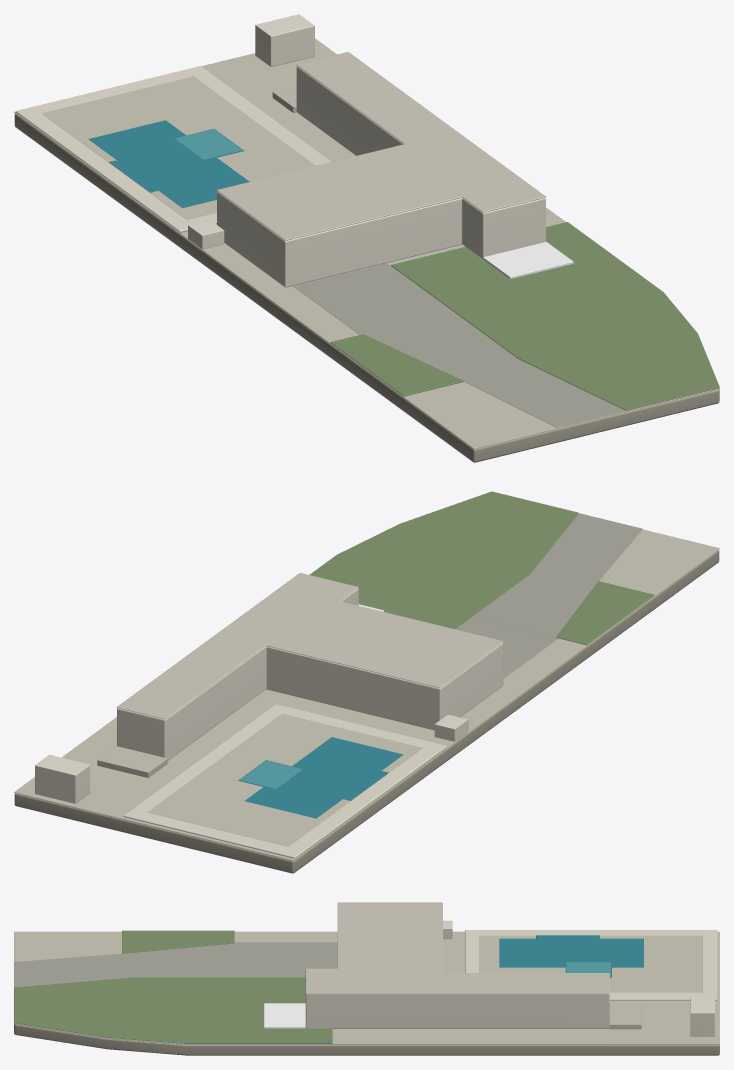
Rendered from outside.glb.
3 renders of one model, top to bottom at view 1: azimuth 30°, elevation 25°; view 2: azimuth 150°, elevation 25°; view 3: azimuth 270°, elevation 25°, orthographic. The views are drawn at different scales.
Parts seen in each view (by area): view 1: Lawn 0, House flat schematic cap, House footprint massing, Paths and paving, Pool surround, Driveway, Site base, Pool water, Pool terrace, Carport footprint, Lawn 1, Shed footprint (+3 smaller); view 2: House flat schematic cap, Lawn 0, Paths and paving, House footprint massing, Pool surround, Site base, Driveway, Pool terrace, Pool water, Lawn 1, Carport footprint, Shed footprint (+3 smaller); view 3: Lawn 0, House flat schematic cap, Paths and paving, House footprint massing, Site base, Driveway, Pool surround, Pool water, Pool terrace, Carport footprint, Lawn 1, Rear deck (+3 smaller).
Part boxes in pixels (x1=…): Lawn 0: x1=391, y1=222, x2=719, y2=410; House flat schematic cap: x1=217, y1=52, x2=545, y2=240; House footprint massing: x1=217, y1=66, x2=545, y2=287; Paths and paving: x1=14, y1=38, x2=719, y2=448; Pool surround: x1=42, y1=76, x2=315, y2=219; Driveway: x1=364, y1=312, x2=625, y2=427; Site base: x1=14, y1=113, x2=719, y2=462; Pool water: x1=88, y1=120, x2=249, y2=207; Pool terrace: x1=16, y1=66, x2=331, y2=232; Carport footprint: x1=293, y1=263, x2=453, y2=334; Lawn 1: x1=330, y1=334, x2=463, y2=396; Shed footprint: x1=255, y1=14, x2=314, y2=67; House flat schematic cap: x1=116, y1=573, x2=503, y2=719; Lawn 0: x1=309, y1=491, x2=578, y2=628; Paths and paving: x1=14, y1=529, x2=719, y2=860; House footprint massing: x1=117, y1=589, x2=503, y2=760; Pool surround: x1=147, y1=713, x2=422, y2=846; Site base: x1=14, y1=550, x2=719, y2=873; Driveway: x1=472, y1=513, x2=642, y2=637; Pool terrace: x1=123, y1=704, x2=447, y2=858; Pool water: x1=238, y1=737, x2=403, y2=818; Lawn 1: x1=556, y1=581, x2=654, y2=645; Carport footprint: x1=455, y1=617, x2=558, y2=678; Shed footprint: x1=35, y1=755, x2=90, y2=803; Lawn 0: x1=14, y1=977, x2=332, y2=1043; House flat schematic cap: x1=305, y1=902, x2=609, y2=993; Paths and paving: x1=14, y1=931, x2=719, y2=1044; House footprint massing: x1=305, y1=993, x2=609, y2=1028; Site base: x1=14, y1=1024, x2=719, y2=1055; Driveway: x1=14, y1=943, x2=234, y2=987; Pool surround: x1=479, y1=935, x2=702, y2=992; Pool water: x1=499, y1=935, x2=643, y2=977; Pool terrace: x1=465, y1=930, x2=717, y2=1000; Carport footprint: x1=234, y1=942, x2=337, y2=977; Lawn 1: x1=122, y1=930, x2=234, y2=953; Rear deck: x1=264, y1=1003, x2=305, y2=1028.
Size of the model in its own units: 9.08 by 1.85 by 24.
